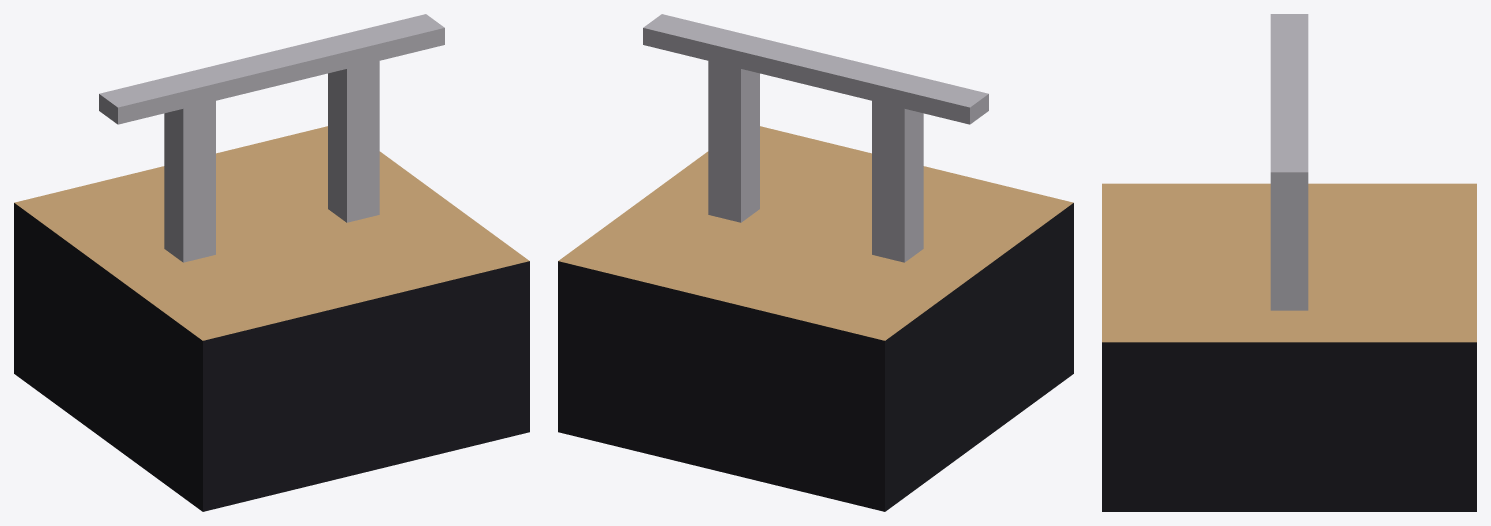
File: Rail_Block_Tall.fbx
The picture shows the model from 3 angles, left to right: view 1: azimuth 30°, elevation 25°; view 2: azimuth 150°, elevation 25°; view 3: azimuth 270°, elevation 25°; orthographic projection.
Parts seen in each view (by area): view 1: Rail_Block_Tall; view 2: Rail_Block_Tall; view 3: Rail_Block_Tall.
Boxes of the visible parts, bbox=[...] form: Rail_Block_Tall: bbox=[14, 14, 529, 511]; Rail_Block_Tall: bbox=[558, 14, 1073, 511]; Rail_Block_Tall: bbox=[1102, 14, 1476, 511].
Bounding box in the file's own units: 10 × 10 × 10.
